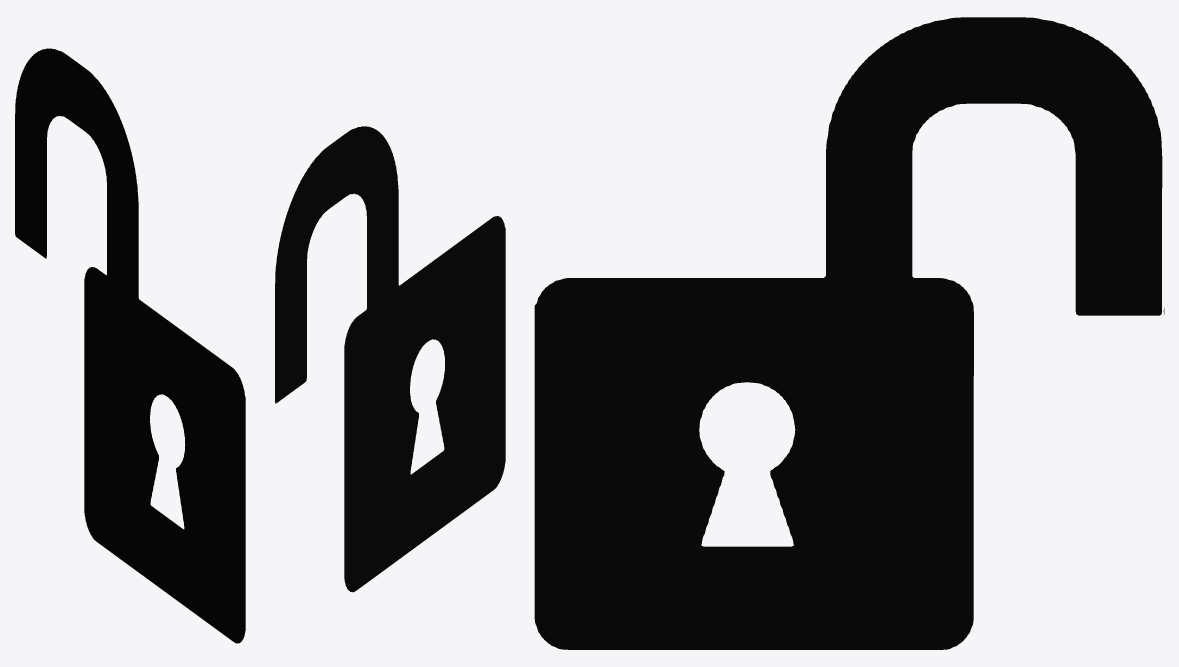
Rendered from unlockPlane.fbx.
3 views of the same model, side by side, from view 1: azimuth 30°, elevation 25°; view 2: azimuth 150°, elevation 25°; view 3: azimuth 270°, elevation 25° (orthographic). The views are drawn at different scales.
Visible parts, largest first — view 1: lockPlane; view 2: lockPlane; view 3: lockPlane.
Part boxes in pixels (x1=…): lockPlane: x1=15, y1=48, x2=245, y2=643; lockPlane: x1=274, y1=126, x2=505, y2=592; lockPlane: x1=534, y1=17, x2=1164, y2=649.
Bounding box in the file's own units: 1.12e-15 × 18.25 × 16.31.
Materials: 1 (1 with a texture image).
